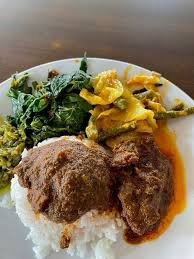Nasi padang: (3, 58, 192, 256)
